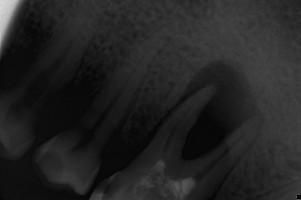Dental Caries: (178, 59, 263, 158)
